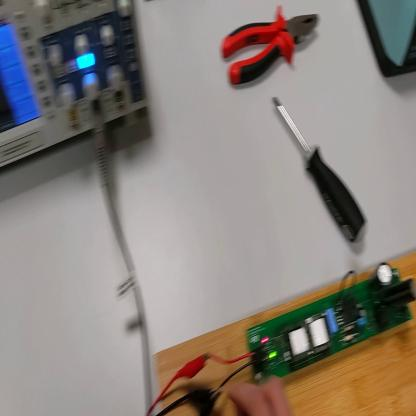hand: (226, 378, 294, 415)
high voltage board: (204, 263, 416, 398)
oscilloscope: (2, 2, 151, 170)
pliers: (221, 9, 320, 93)
screwdriver-: (273, 99, 372, 251)
welder station: (357, 2, 416, 80)
working area: (157, 250, 416, 416)
